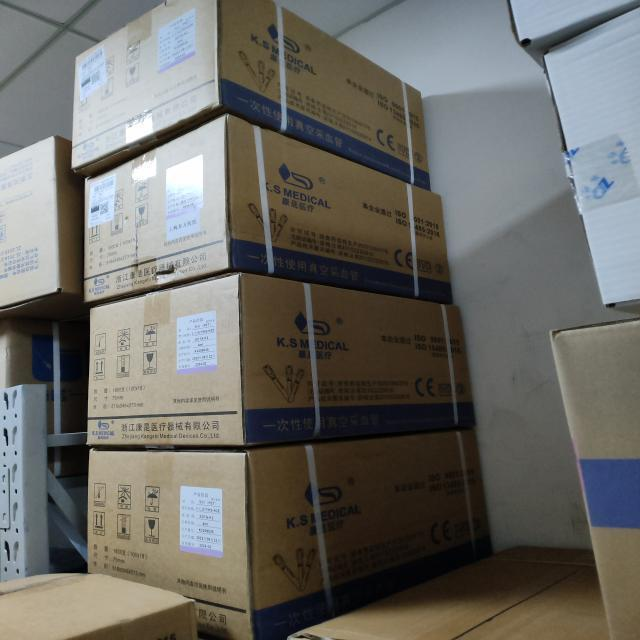box: (88, 431, 491, 640), (86, 112, 451, 305), (88, 268, 477, 448), (74, 0, 430, 190), (292, 543, 640, 634), (0, 136, 93, 313), (0, 570, 202, 640)
